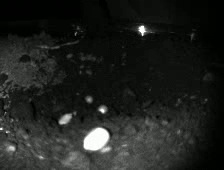corn: (80, 125, 113, 153), (57, 111, 75, 127), (94, 103, 111, 116), (82, 93, 95, 105)
